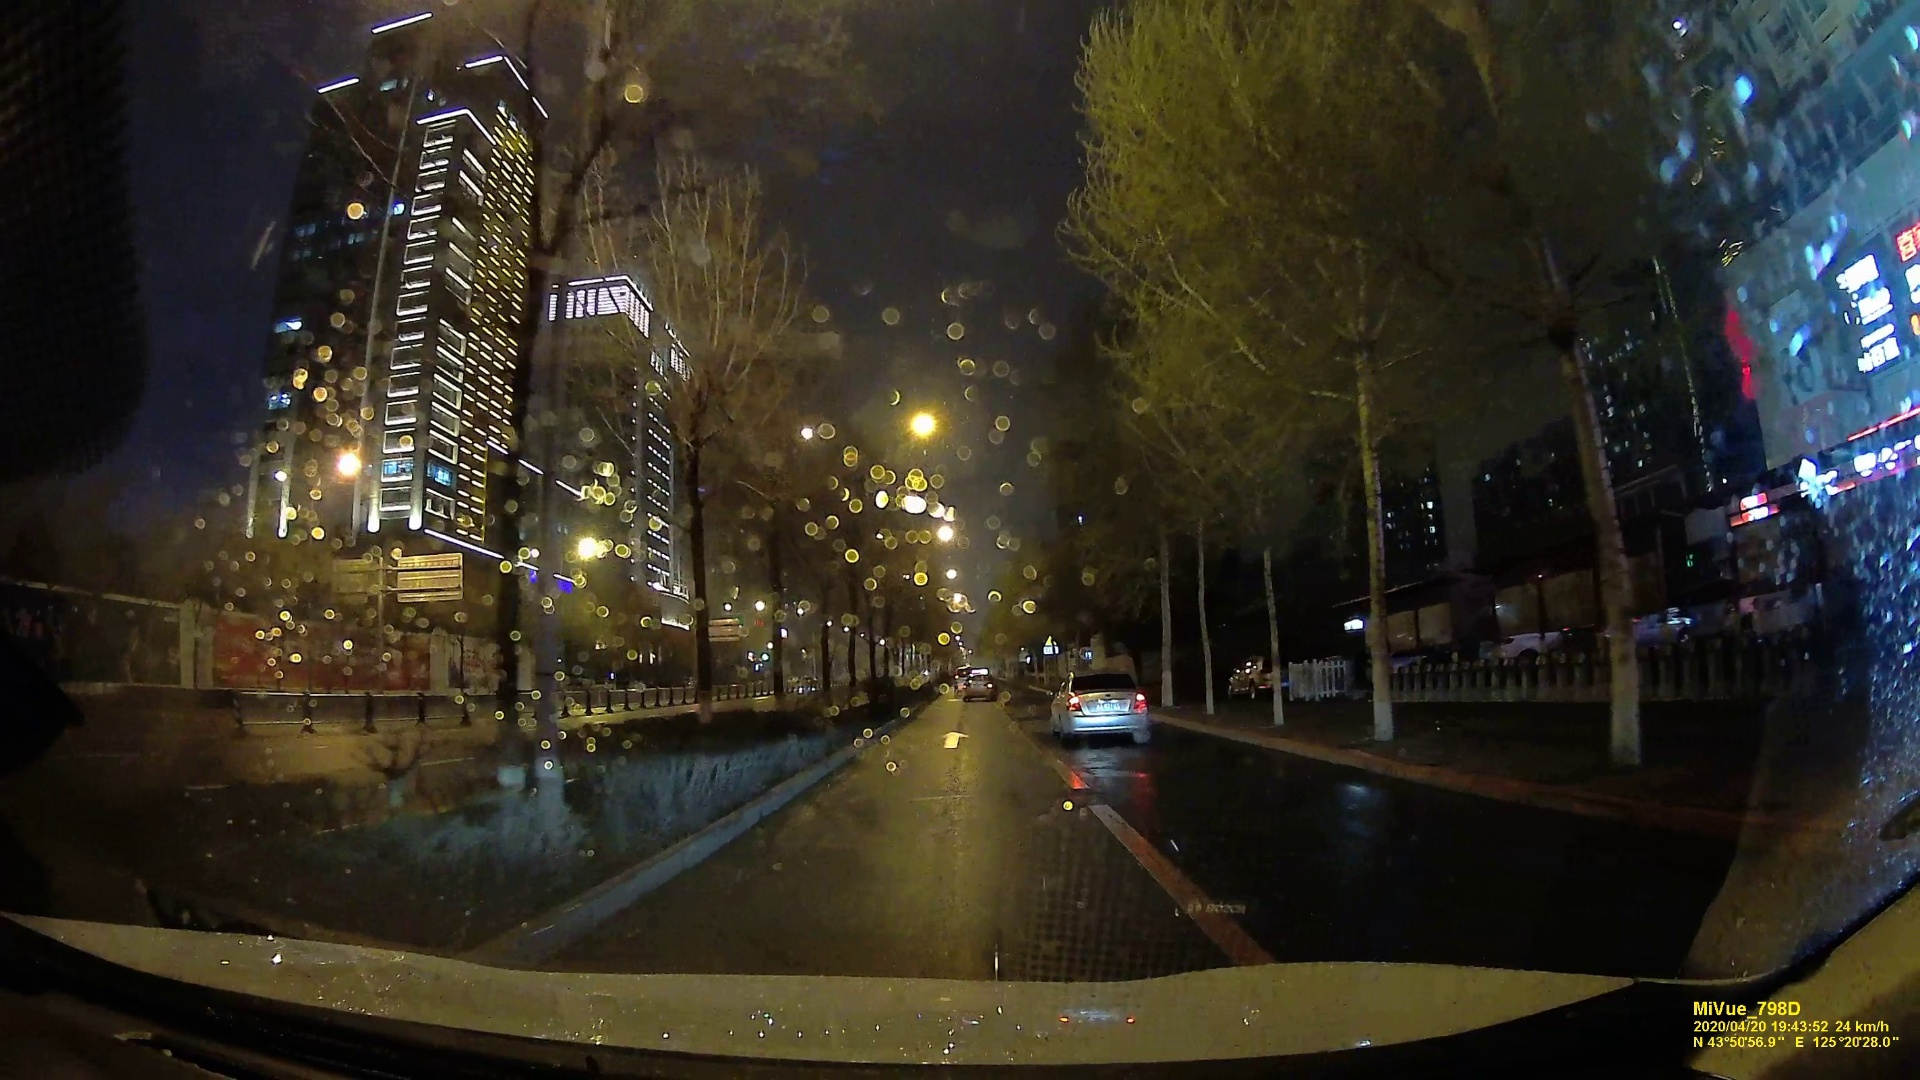vehicle: (1048, 671, 1153, 745), (957, 669, 997, 700)
